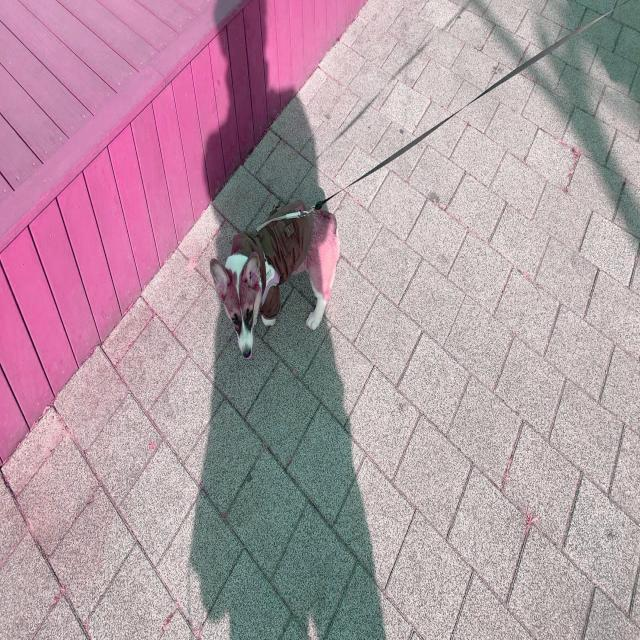Dog: (208, 186, 342, 362)
